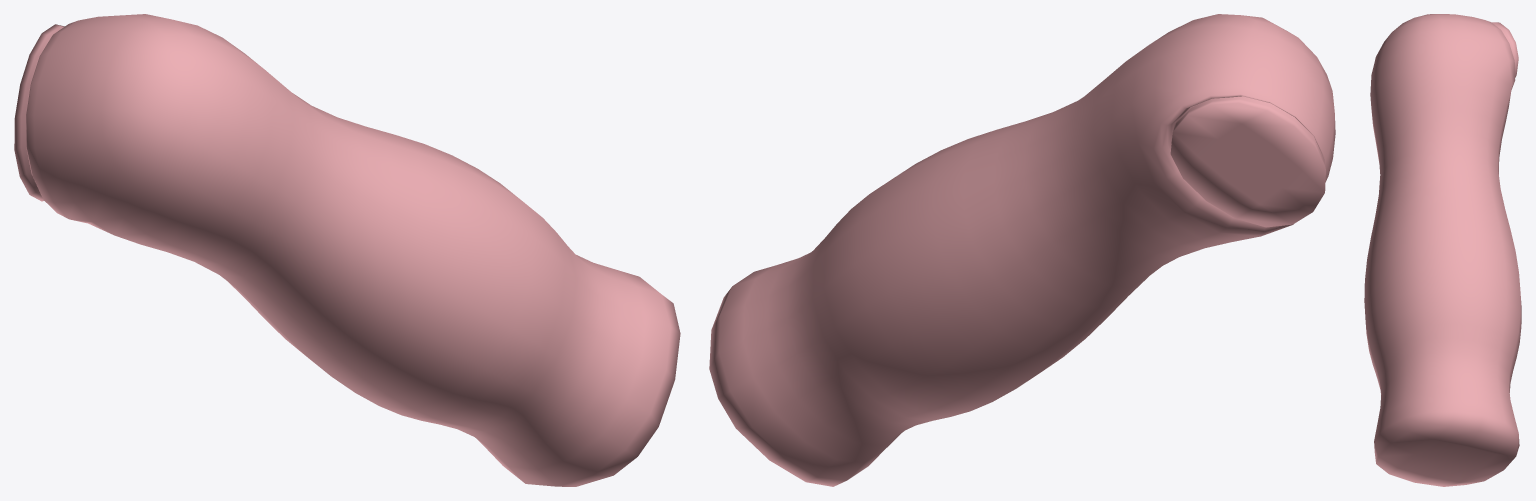
The model's file is finger.004.fbx.
3 views of the same model, side by side, from view 1: azimuth 30°, elevation 25°; view 2: azimuth 150°, elevation 25°; view 3: azimuth 270°, elevation 25° (orthographic). The views are drawn at different scales.
Visible parts, largest first — view 1: finger.004; view 2: finger.004; view 3: finger.004.
Part boxes in pixels (left/top/right/bottom): finger.004: left=14, top=14, right=680, bottom=486; finger.004: left=709, top=14, right=1335, bottom=486; finger.004: left=1364, top=14, right=1521, bottom=486.
Size of the model in its own units: 141 by 119 by 48.95.
